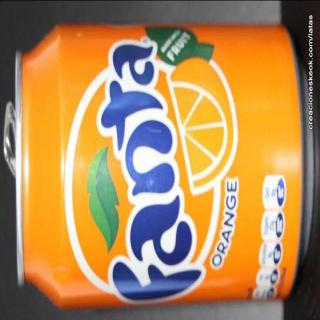Anorganik: (5, 19, 313, 301)
